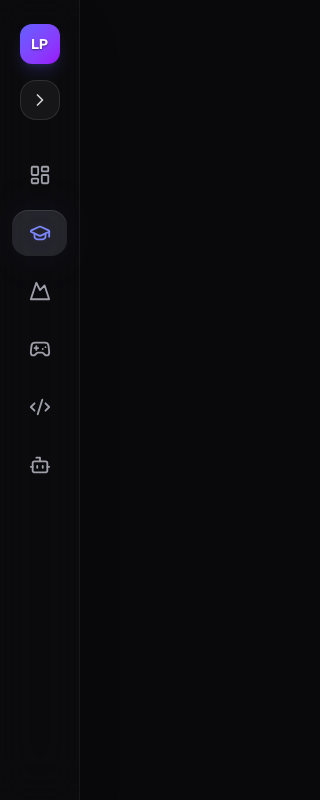
Scenario: Sidebar › is collapsed by default and expands on button click
Expected: the text "Dashboard" is not shown
Expected: the text "Learning" is not shown
Click the button named "Expand sidebar".
click(40, 100)  # box [20,80,60,120]
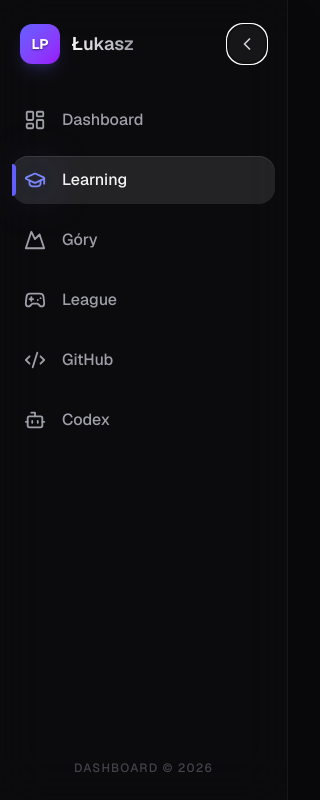
Expected: the text "Dashboard" is shown, [62,108,143,132]
Expected: the text "Learning" is shown, [62,168,127,192]
Expected: the text "Góry" is shown, [62,228,98,252]
